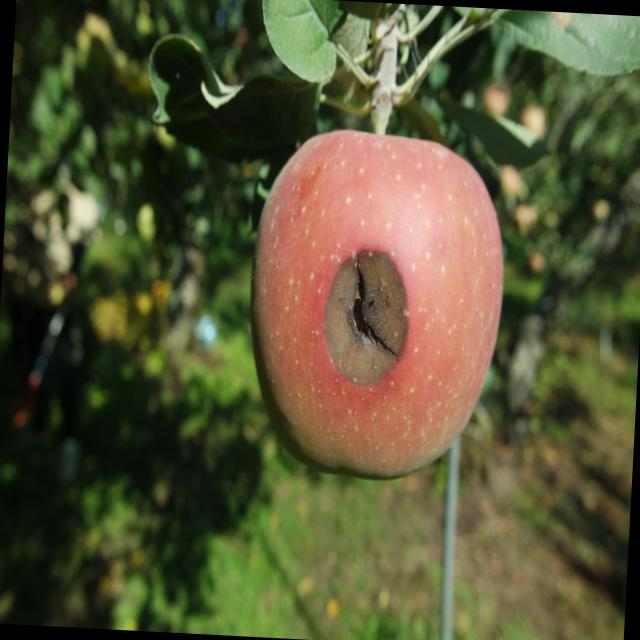rotten: (235, 110, 519, 492)
